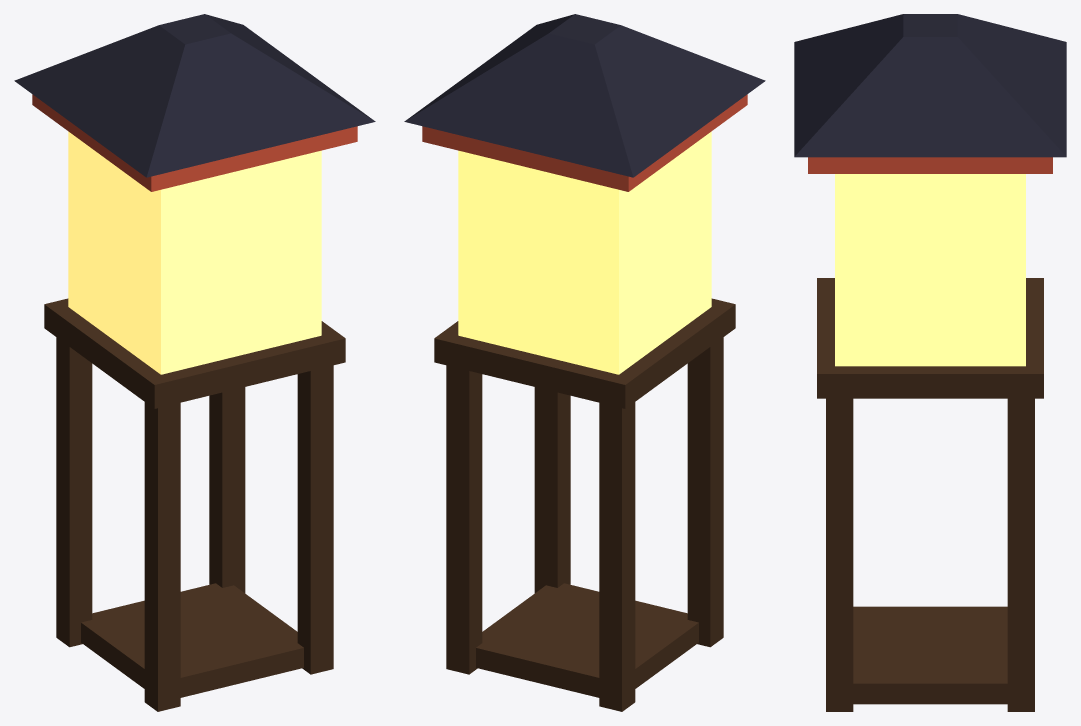
Rendered from night_lantern_stand.glb.
3 renders of one model, left to right at view 1: azimuth 30°, elevation 25°; view 2: azimuth 150°, elevation 25°; view 3: azimuth 270°, elevation 25°, orthographic. The views are drawn at different scales.
Parts seen in each view (by area): view 1: night_lantern_stand; view 2: night_lantern_stand; view 3: night_lantern_stand.
Part boxes in pixels (left/top/right/bottom): night_lantern_stand: left=14, top=14, right=375, bottom=711; night_lantern_stand: left=404, top=14, right=765, bottom=711; night_lantern_stand: left=794, top=14, right=1066, bottom=711.
Size of the model in its own units: 0.6 by 1.56 by 0.6.
